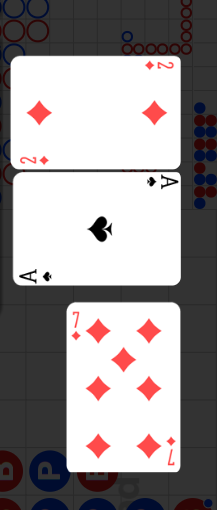2D: (143, 59, 175, 72)
7D: (164, 435, 177, 467)
AS: (18, 267, 55, 284)
